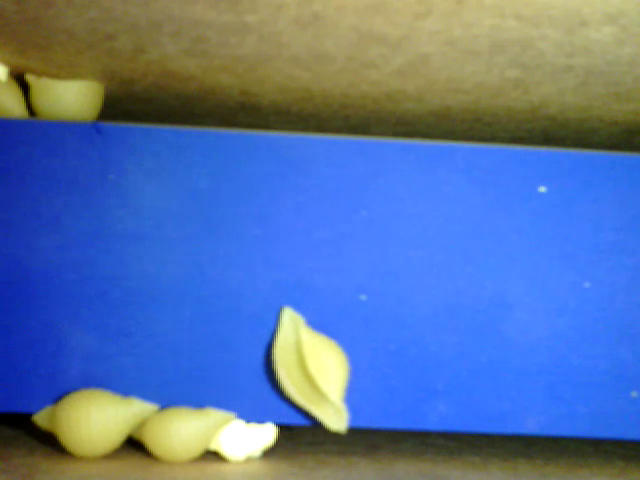shell: (263, 304, 353, 434), (34, 381, 157, 464), (125, 405, 235, 465), (25, 69, 103, 123)
